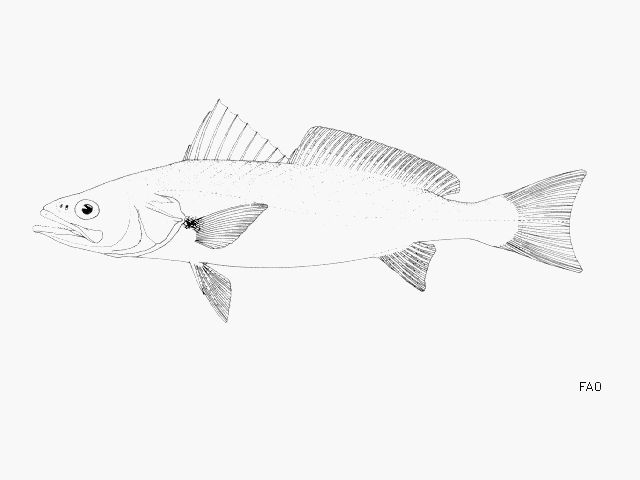fish: (33, 100, 586, 322)
